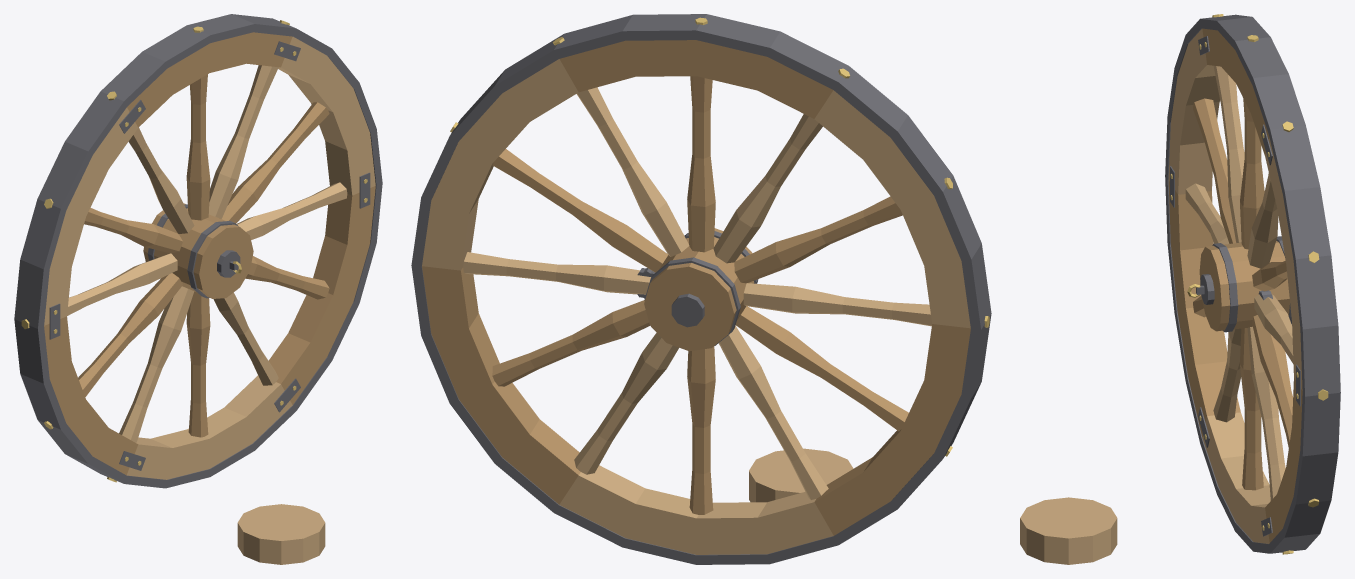
The model's file is carttwheel.glb.
3 renders of one model, left to right at view 1: azimuth 30°, elevation 25°; view 2: azimuth 150°, elevation 25°; view 3: azimuth 270°, elevation 25°, orthographic. The views are drawn at different scales.
Visible parts, largest first — view 1: IronTire, Felloe_5, Felloe_4, Felloe_0, HubRing, Felloe_3, Felloe_1, Felloe_2, HubBody, Spoke_8, Spoke_2, Spoke_7 (+10 smaller); view 2: IronTire, Felloe_4, Felloe_5, Felloe_3, Felloe_0, Felloe_1, Felloe_2, HubBody, Spoke_7, Spoke_1, Spoke_6, Spoke_2 (+11 smaller); view 3: IronTire, Felloe_3, HubRing, Felloe_2, Felloe_4, HubBody, Spoke_4, Spoke_10, Spoke_9, Spoke_3, Spoke_5, Spoke_11 (+9 smaller).
Part boxes in pixels (box(x1,y1,x2,y2)): IronTire: box(14, 14, 382, 488); Felloe_5: box(268, 186, 375, 404); Felloe_4: box(126, 375, 292, 479); Felloe_0: box(278, 36, 375, 195); HubRing: box(237, 504, 325, 564); Felloe_3: box(44, 316, 138, 475); Felloe_1: box(127, 32, 292, 127); Felloe_2: box(44, 107, 138, 325); HubBody: box(143, 203, 253, 298); Spoke_8: box(119, 286, 194, 442); Spoke_2: box(209, 65, 278, 218); Spoke_7: box(78, 273, 182, 396); IronTire: box(411, 14, 991, 564); Felloe_4: box(559, 465, 833, 554); Felloe_5: box(422, 266, 580, 504); Felloe_3: box(814, 324, 970, 535); Felloe_0: box(422, 59, 578, 270); Felloe_1: box(559, 40, 833, 118); Felloe_2: box(814, 90, 970, 328); HubBody: box(644, 228, 754, 351); Spoke_7: box(735, 306, 908, 431); Spoke_1: box(492, 149, 667, 272); Spoke_6: box(743, 283, 931, 326); Spoke_2: box(576, 87, 689, 256); IronTire: box(1165, 14, 1340, 553); Felloe_3: box(1168, 180, 1240, 436); HubRing: box(1020, 497, 1117, 564); Felloe_2: box(1168, 29, 1219, 194); Felloe_4: box(1202, 412, 1270, 543); HubBody: box(1199, 241, 1289, 331); Spoke_4: box(1213, 65, 1244, 242); Spoke_10: box(1247, 326, 1285, 500); Spoke_9: box(1240, 327, 1263, 490); Spoke_3: box(1240, 99, 1264, 249); Spoke_5: box(1193, 98, 1236, 243); Spoke_11: box(1252, 315, 1293, 448).
Bounding box in the file's own units: 2.73 × 2.87 × 1.65.
